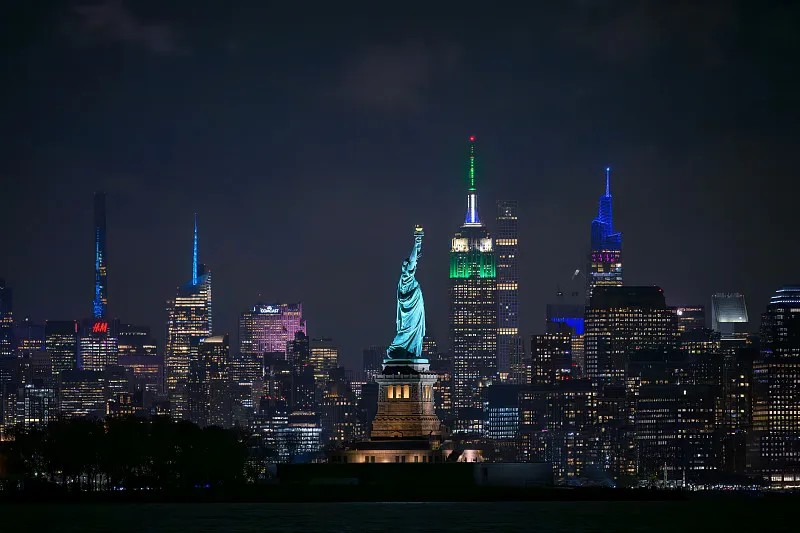SL: (370, 227, 441, 437)
